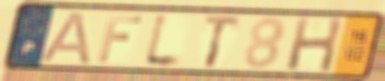8: (241, 15, 289, 72)
A: (37, 10, 93, 66)
F: (95, 13, 145, 64)
H: (284, 15, 346, 75)
L: (140, 10, 186, 72)
T: (201, 14, 243, 69)
